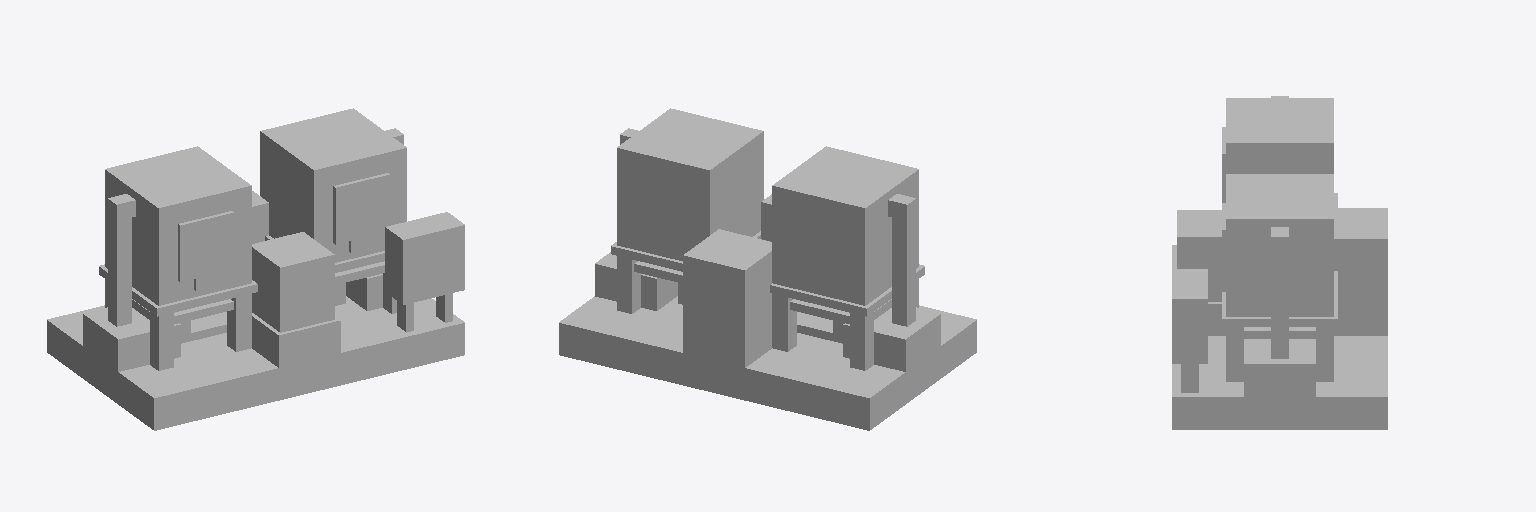
The model's file is refinery.obj.
The picture shows the model from 3 angles: view 1: azimuth 30°, elevation 25°; view 2: azimuth 150°, elevation 25°; view 3: azimuth 270°, elevation 25°; orthographic projection.
Visible parts, largest first — view 1: refinery; view 2: refinery; view 3: refinery.
Part boxes in pixels (x1,y1,x2,y2): refinery: (47,108,464,430); refinery: (559,108,976,430); refinery: (1172,96,1387,429).
Bounding box in the file's own units: 5 × 3 × 3.